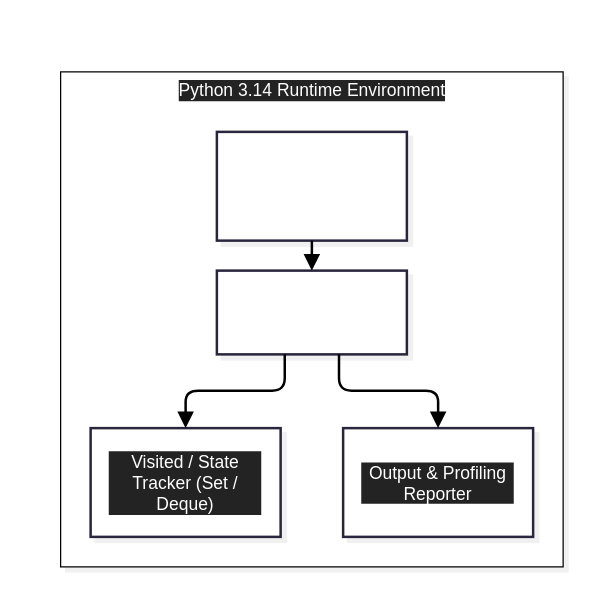
The diagram is 590 pixels wide and 594 high, and some of its shapes have lost their labels. Each missing label, with the centre of its shape:
Input & Test Case Configurator: point 313,188
Search Engine (BFS / DFS): point 313,314
